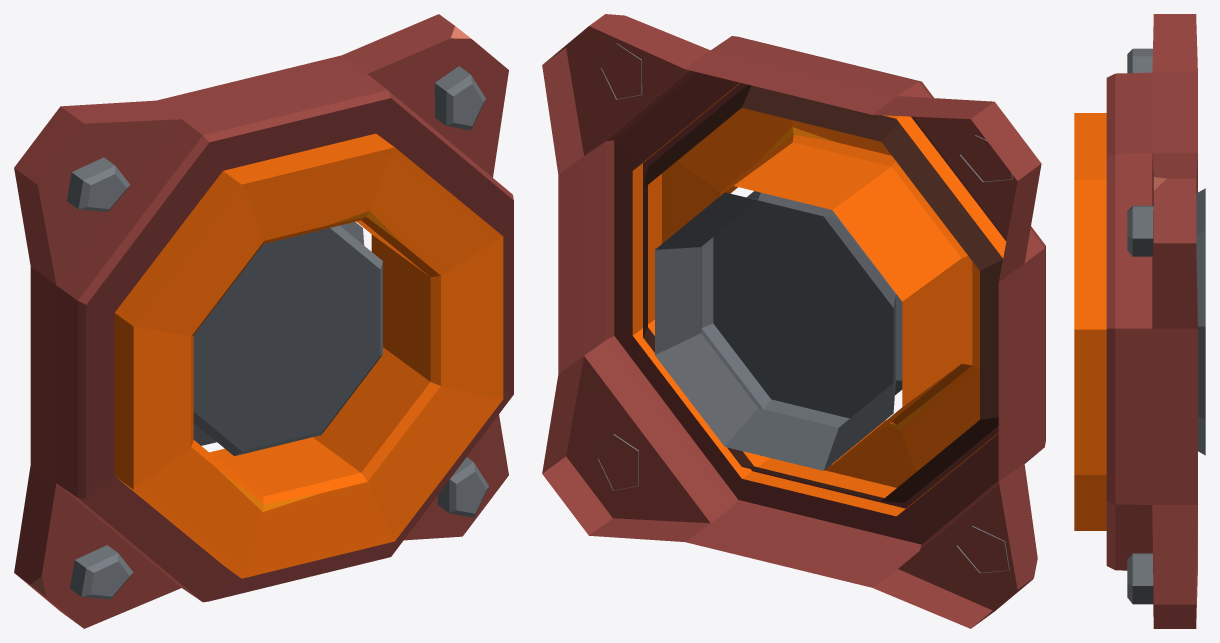
File: EA_SP_RotatingBase_01a.glb
The picture shows the model from 3 angles, left to right: view 1: azimuth 30°, elevation 25°; view 2: azimuth 150°, elevation 25°; view 3: azimuth 270°, elevation 25°; orthographic projection. The views are drawn at different scales.
Parts seen in each view (by area): view 1: EA_SP_RotatingBase_01a, EA_SP_RotatingBase_btn, EA_SP_RotatingBase_btn.001; view 2: EA_SP_RotatingBase_01a, EA_SP_RotatingBase_btn.001, EA_SP_RotatingBase_btn; view 3: EA_SP_RotatingBase_01a, EA_SP_RotatingBase_btn.001.
Part boxes in pixels (x1,y1,x2,y2): EA_SP_RotatingBase_01a: (14, 14, 513, 628); EA_SP_RotatingBase_btn: (140, 155, 495, 570); EA_SP_RotatingBase_btn.001: (114, 133, 503, 578); EA_SP_RotatingBase_01a: (542, 14, 1045, 628); EA_SP_RotatingBase_btn.001: (632, 82, 1006, 516); EA_SP_RotatingBase_btn: (668, 108, 979, 482); EA_SP_RotatingBase_01a: (1106, 14, 1205, 628); EA_SP_RotatingBase_btn.001: (1074, 113, 1106, 530).
Size of the model in its own units: 1.04 by 1.06 by 0.2803.
1 material, 1 textured.
